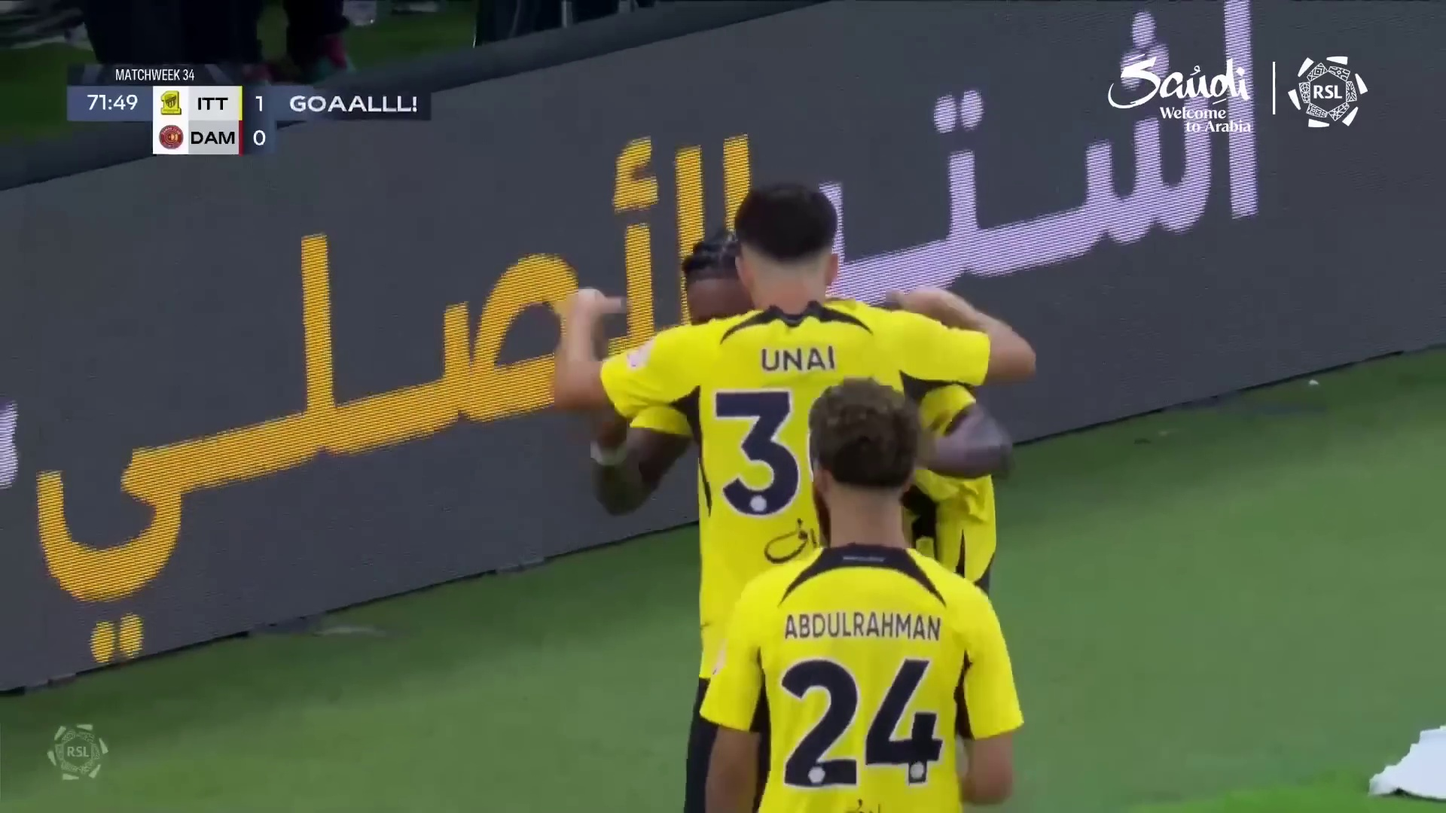player: (548, 177, 1039, 813), (682, 376, 1034, 813)
